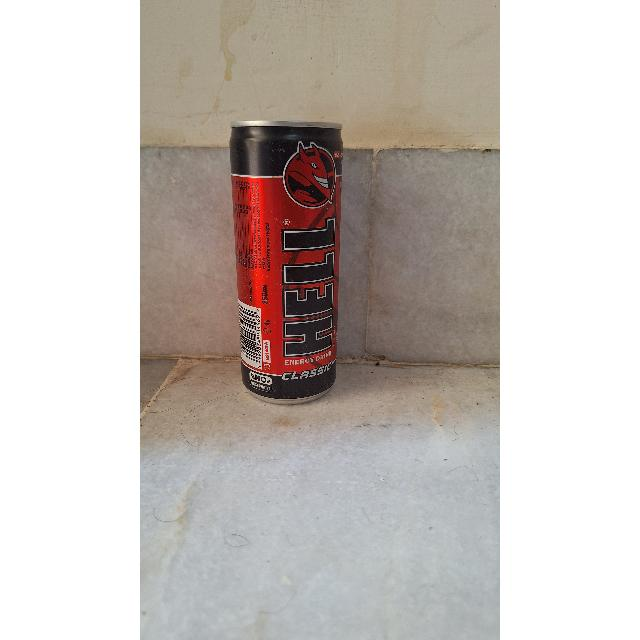Hell Classic: (228, 124, 338, 396)
